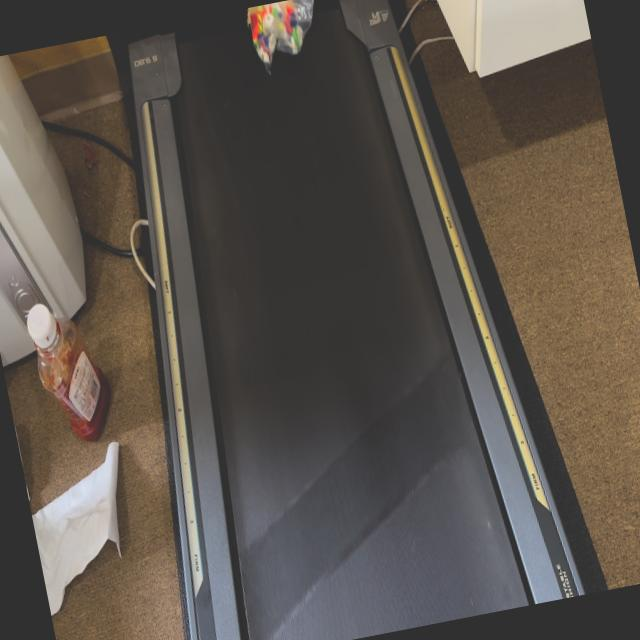Trash: (235, 0, 358, 100)
